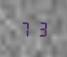seven: (19, 20, 32, 37)
three: (33, 20, 46, 37)
